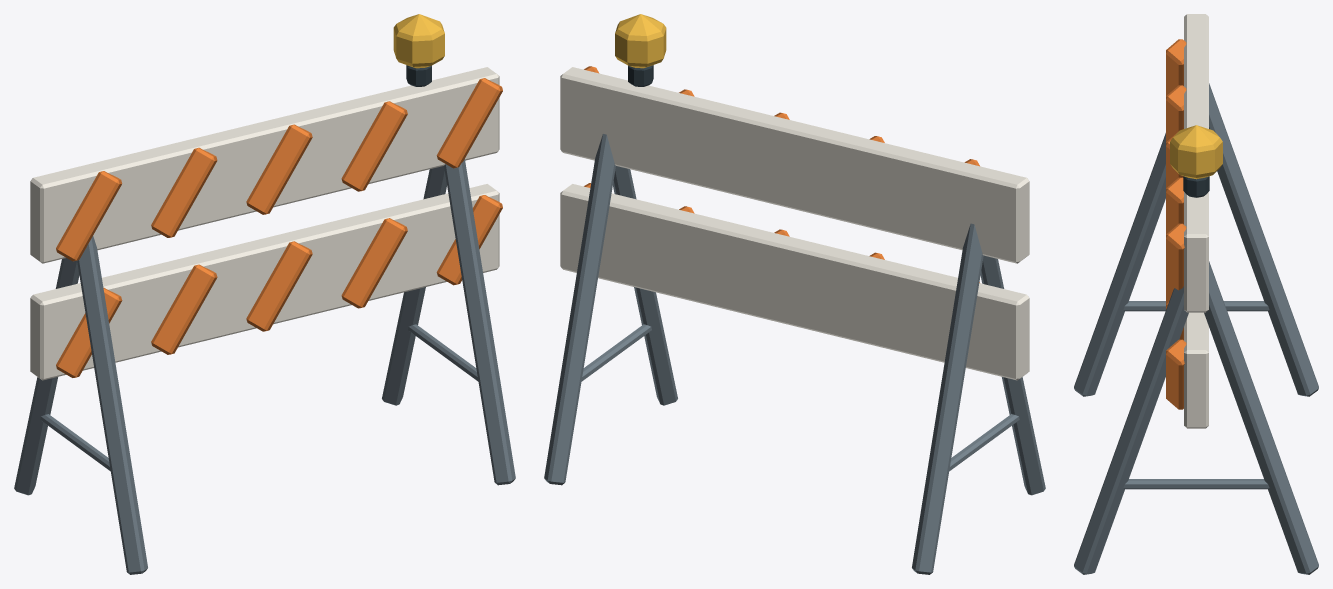
File: b02_striped_sawhorse_barricade.glb
3 renders of one model, left to right at view 1: azimuth 30°, elevation 25°; view 2: azimuth 150°, elevation 25°; view 3: azimuth 270°, elevation 25°, orthographic.
Parts seen in each view (by area): view 1: b02_striped_sawhorse_barricade; view 2: b02_striped_sawhorse_barricade; view 3: b02_striped_sawhorse_barricade.
Boxes of the visible parts, x1=… form: b02_striped_sawhorse_barricade: x1=14, y1=14, x2=515, y2=574; b02_striped_sawhorse_barricade: x1=544, y1=14, x2=1045, y2=574; b02_striped_sawhorse_barricade: x1=1074, y1=14, x2=1318, y2=574.
Size of the model in its own units: 1.4 by 1.27 by 0.6508.
